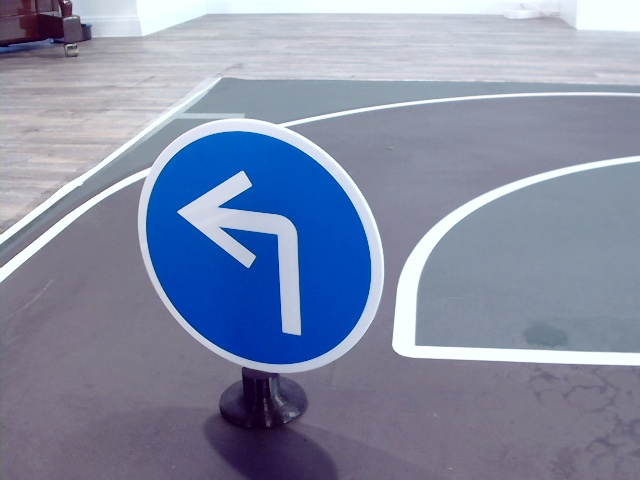turn_left: (173, 165, 320, 336)
